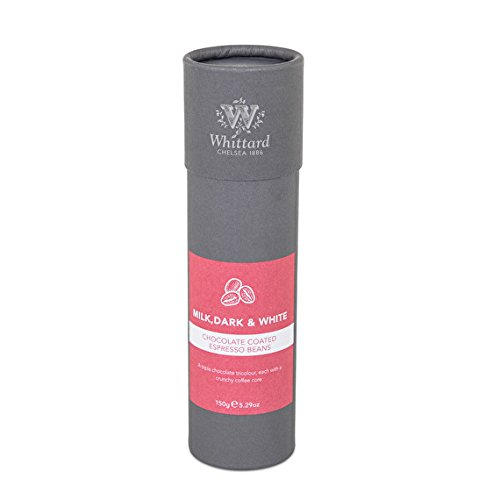WHITE: (261, 312, 287, 326)
Whittard: (211, 134, 268, 154)
